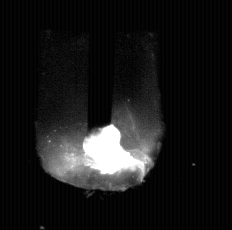arame: (88, 0, 113, 137)
poca: (35, 0, 166, 230)
